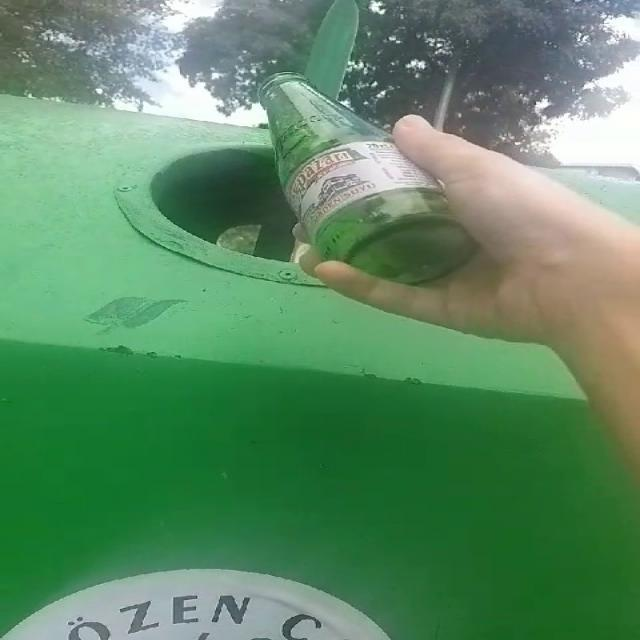Glass: (259, 72, 476, 283)
